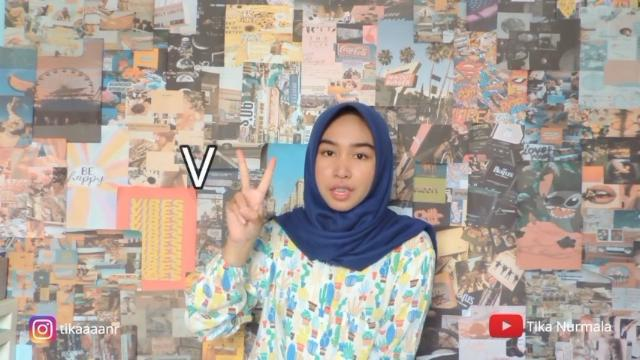V: (224, 144, 276, 243)
